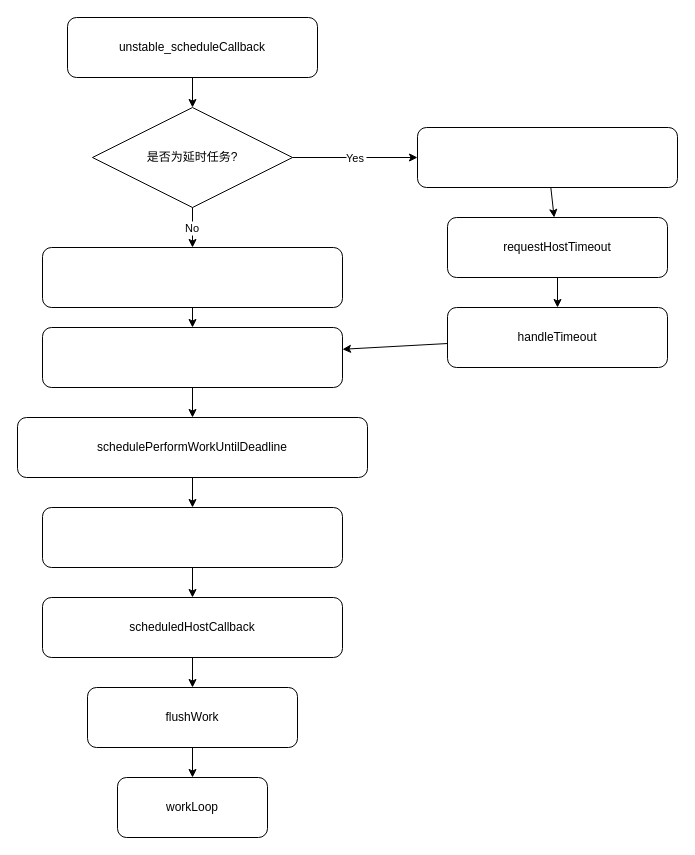
Image size: 695x855. Some labels were removed from this diagram. The shapes that lost their labels are listed below. From the top down, each one's centre as x and y in pixels, then its label:
At [547,157]: "push(timerQueue, newTask)".
At [192,277]: "push(taskQueue, newTask)".
At [192,357]: "requestHostCallback".
At [192,537]: "performWorkUntilDeadline".
